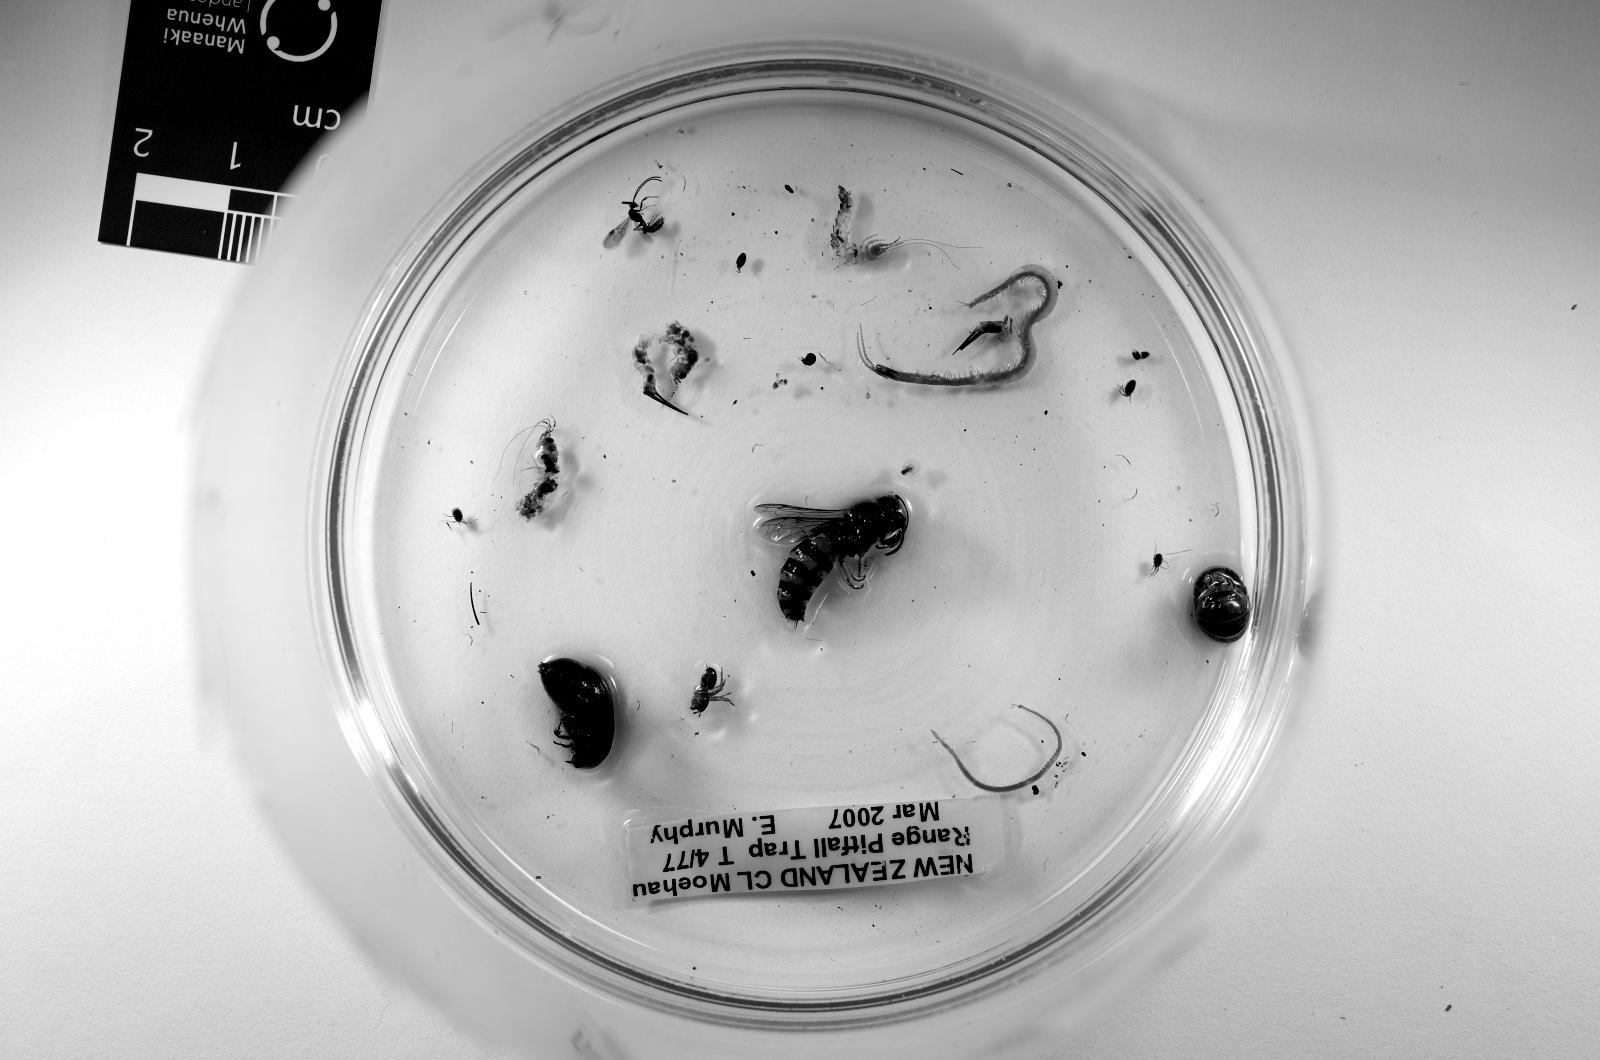acari: (799, 354, 816, 367), (1153, 552, 1162, 571)
araneae: (691, 667, 731, 715)
chilopoda: (856, 264, 1060, 386), (931, 705, 1062, 791)
coleoptera: (538, 658, 616, 767)
formicidae: (603, 174, 666, 248)
isopoda: (1193, 568, 1250, 642)
vespidae: (757, 497, 909, 627)
